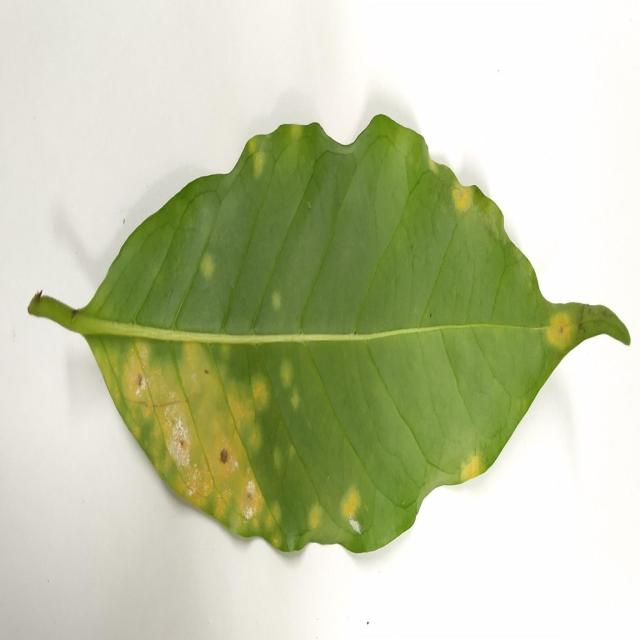rust: (120, 339, 294, 551), (544, 304, 580, 369), (448, 171, 484, 218), (339, 486, 372, 535), (458, 452, 488, 483)
